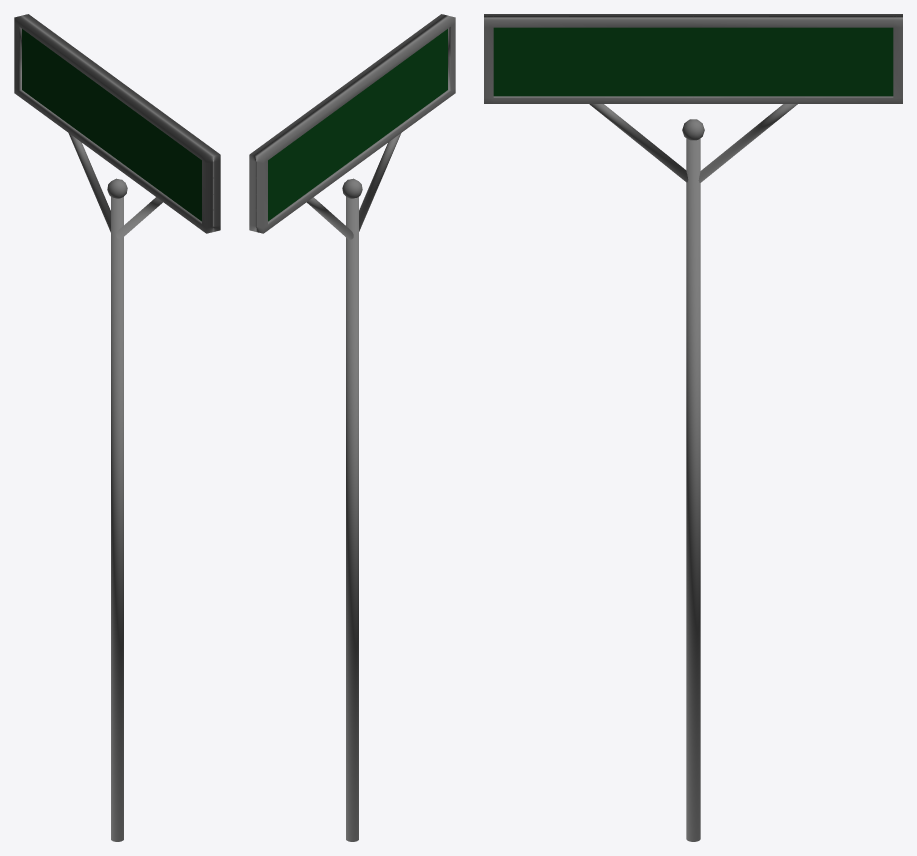
3 renders of one model, left to right at view 1: azimuth 30°, elevation 25°; view 2: azimuth 150°, elevation 25°; view 3: azimuth 270°, elevation 25°, orthographic. The views are drawn at different scales.
Visible parts, largest first — view 1: green, 柱体, Cube, 柱体.001, 柱体.002; view 2: green, 柱体, Cube, 柱体.002, 柱体.001; view 3: green, Cube, 柱体, 柱体.001, 柱体.002.
Boxes of the visible parts, left/top/right/bottom form: green: left=22, top=29, right=201, bottom=221; 柱体: left=111, top=197, right=123, bottom=841; Cube: left=14, top=14, right=220, bottom=233; 柱体.001: left=68, top=133, right=110, bottom=232; 柱体.002: left=116, top=197, right=162, bottom=239; green: left=268, top=29, right=447, bottom=221; 柱体: left=346, top=197, right=358, bottom=841; Cube: left=249, top=14, right=455, bottom=233; 柱体.002: left=359, top=133, right=401, bottom=231; 柱体.001: left=306, top=197, right=353, bottom=239; green: left=493, top=27, right=893, bottom=96; Cube: left=484, top=14, right=902, bottom=103; 柱体: left=686, top=138, right=700, bottom=841; 柱体.001: left=698, top=104, right=797, bottom=182; 柱体.002: left=589, top=104, right=688, bottom=182.
Bounding box in the file's own units: 0.0462 × 1.94 × 0.8953.
